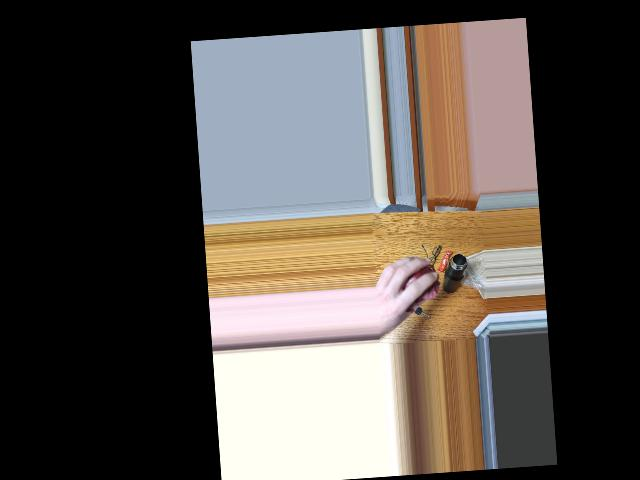onion: (396, 262, 433, 310)
